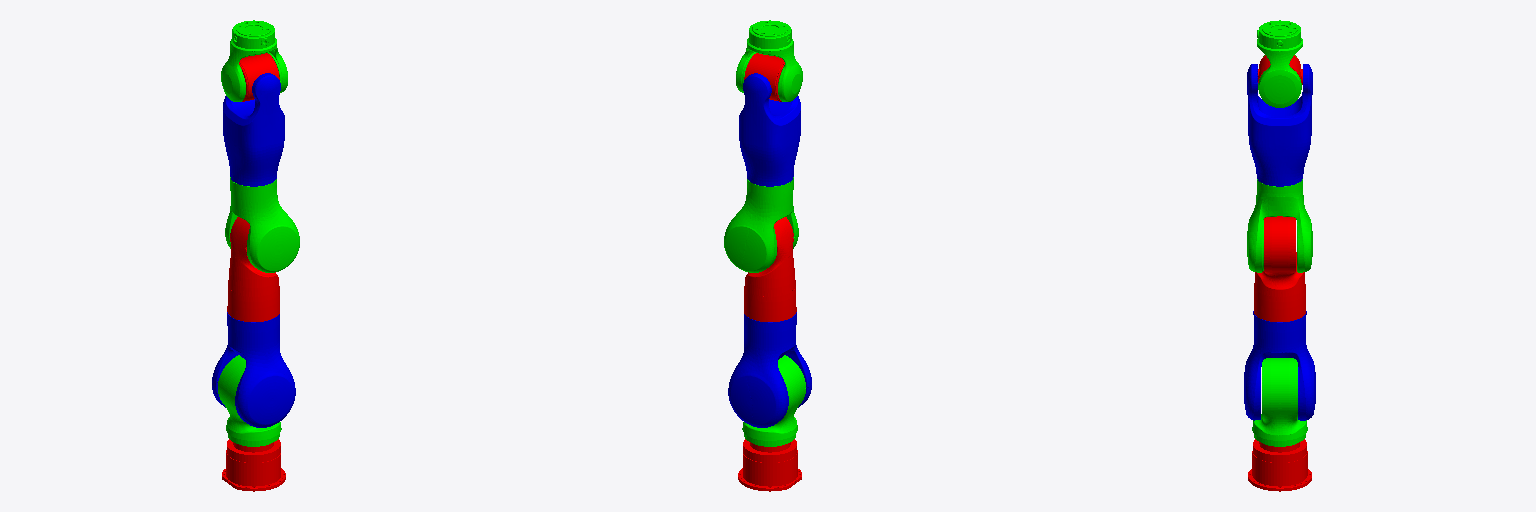
The robot description file, URDF, robot "tj_fx_left_arm":
<?xml version='1.0' encoding='utf-8'?>
<robot name="tj_fx_left_arm">
  <link name="Base_L">
    <inertial>
      <origin xyz="0.00032267 4.798E-05 0.04066353" rpy="0 0 0" />
      <mass value="1.1962" />
      <inertia ixx="0.00107329" ixy="-1.68E-06" ixz="-1.05E-05" iyy="0.00107003" iyz="-3.43E-06" izz="0.00127315" />
    </inertial>
    <visual>
      <origin xyz="0 0 0" rpy="0 0 0" />
      <geometry>
        <mesh filename="package://daimon_tj_fx_description/meshes/left/Base_L.STL" />
      </geometry>
      <material name="">
        <color rgba="1 0 0 1" />
      </material>
    </visual>
    <collision>
      <origin xyz="0 0 0" rpy="0 0 0" />
      <geometry>
        <mesh filename="package://daimon_tj_fx_description/meshes/left/Base_L.STL" />
      </geometry>
    </collision>
  </link>
  <link name="Link1_L">
    <inertial>
      <origin xyz="0.00002347 0.00557150 -0.03075998" rpy="0 0 0" />
      <mass value="1.9705" />
      <inertia ixx="0.00492293" ixy="0.00000550" ixz="0.00000193" iyy="0.00526513" iyz="0.00033232" izz="0.00188107" />
    </inertial>
    <visual>
      <origin xyz="0 0 0" rpy="0 0 0" />
      <geometry>
        <mesh filename="package://daimon_tj_fx_description/meshes/left/Link1_L.STL" />
      </geometry>
      <material name="">
        <color rgba="0 1 0 1" />
      </material>
    </visual>
    <collision>
      <origin xyz="0 0 0" rpy="0 0 0" />
      <geometry>
        <mesh filename="package://daimon_tj_fx_description/meshes/left/Link1_L.STL" />
      </geometry>
    </collision>
  </link>
  <joint name="Joint1_L" type="revolute">
    <origin xyz="0 0 0.1745" rpy="0 0 0" />
    <parent link="Base_L" />
    <child link="Link1_L" />
    <axis xyz="0 0 1" />
    <limit lower="-3.1067" upper="3.1067" effort="108" velocity="3.1416" />
  </joint>
  <link name="Link2_L">
    <inertial>
      <origin xyz="0.00013483 0.06170460 0.00950639" rpy="0 0 0" />
      <mass value="2.24398" />
      <inertia ixx="0.01194933" ixy="0.00000336" ixz="0.00000091" iyy="0.00361581" iyz="-0.00132804" izz="0.01098356" />
    </inertial>
    <visual>
      <origin xyz="0 0 0" rpy="0 0 0" />
      <geometry>
        <mesh filename="package://daimon_tj_fx_description/meshes/left/Link2_L.STL" />
      </geometry>
      <material name="">
        <color rgba="0 0 1 1" />
      </material>
    </visual>
    <collision>
      <origin xyz="0 0 0" rpy="0 0 0" />
      <geometry>
        <mesh filename="package://daimon_tj_fx_description/meshes/left/Link2_L.STL" />
      </geometry>
    </collision>
  </link>
  <joint name="Joint2_L" type="revolute">
    <origin xyz="0 0 0" rpy="1.5708 0 0" />
    <parent link="Link1_L" />
    <child link="Link2_L" />
    <axis xyz="0 0 1" />
    <limit lower="-2.0944" upper="2.0944" effort="108" velocity="3.1416" />
  </joint>
  <link name="Link3_L">
    <inertial>
      <origin xyz="0.00968562 0.00246599 -0.04627302" rpy="0 0 0" />
      <mass value="1.9242" />
      <inertia ixx="0.00718224" ixy="0.00004413" ixz="0.00089552" iyy="0.00762563" iyz="0.00022096" izz="0.00178597" />
    </inertial>
    <visual>
      <origin xyz="0 0 0" rpy="0 0 0" />
      <geometry>
        <mesh filename="package://daimon_tj_fx_description/meshes/left/Link3_L.STL" />
      </geometry>
      <material name="">
        <color rgba="1 0 0 1" />
      </material>
    </visual>
    <collision>
      <origin xyz="0 0 0" rpy="0 0 0" />
      <geometry>
        <mesh filename="package://daimon_tj_fx_description/meshes/left/Link3_L.STL" />
      </geometry>
    </collision>
  </link>
  <joint name="Joint3_L" type="revolute">
    <origin xyz="0 0.287 0" rpy="-1.5708 0 0" />
    <parent link="Link2_L" />
    <child link="Link3_L" />
    <axis xyz="0 0 1" />
    <limit lower="-3.1067" upper="3.1067" effort="66" velocity="3.1416" />
  </joint>
  <link name="Link4_L">
    <inertial>
      <origin xyz="0.00850411 -0.04718223 0.00941509" rpy="0 0 0" />
      <mass value="1.6085" />
      <inertia ixx="0.00580480" ixy="-0.00066669" ixz="-0.00012722" iyy="0.00223807" iyz="0.00070523" izz="0.00533060" />
    </inertial>
    <visual>
      <origin xyz="0 0 0" rpy="0 0 0" />
      <geometry>
        <mesh filename="package://daimon_tj_fx_description/meshes/left/Link4_L.STL" />
      </geometry>
      <material name="">
        <color rgba="0 1 0 1" />
      </material>
    </visual>
    <collision>
      <origin xyz="0 0 0" rpy="0 0 0" />
      <geometry>
        <mesh filename="package://daimon_tj_fx_description/meshes/left/Link4_L.STL" />
      </geometry>
    </collision>
  </link>
  <joint name="Joint4_L" type="revolute">
    <origin xyz="0.018 0 0" rpy="-1.5708 0 3.1416" />
    <parent link="Link3_L" />
    <child link="Link4_L" />
    <axis xyz="0 0 1" />
    <limit lower="-2.5307" upper="1.0472" effort="66" velocity="3.1416" />
  </joint>
  <link name="Link5_L">
    <inertial>
      <origin xyz="0.00051127 0.00101064 -0.11271739" rpy="0 0 0" />
      <mass value="2.0883" />
      <inertia ixx="0.00626603" ixy="0.00004009" ixz="0.00005338" iyy="0.00564387" iyz="-0.00006193" izz="0.00243632" />
    </inertial>
    <visual>
      <origin xyz="0 0 0" rpy="0 0 0" />
      <geometry>
        <mesh filename="package://daimon_tj_fx_description/meshes/left/Link5_L.STL" />
      </geometry>
      <material name="">
        <color rgba="0 0 1 1" />
      </material>
    </visual>
    <collision>
      <origin xyz="0 0 0" rpy="0 0 0" />
      <geometry>
        <mesh filename="package://daimon_tj_fx_description/meshes/left/Link5_L.STL" />
      </geometry>
    </collision>
  </link>
  <joint name="Joint5_L" type="revolute">
    <origin xyz="0.018 -0.314 0" rpy="-1.5708 0 3.1416" />
    <parent link="Link4_L" />
    <child link="Link5_L" />
    <axis xyz="0 0 1" />
    <limit lower="-3.1067" upper="3.1067" effort="18" velocity="3.1416" />
  </joint>
  <link name="Link6_L">
    <inertial>
      <origin xyz="0.00032659 0.00531336 -0.00030182" rpy="0 0 0" />
      <mass value="0.72496" />
      <inertia ixx="0.00046040" ixy="0.00000189" ixz="0.00000083" iyy="0.00051716" iyz="-0.00000346" izz="0.00042521" />
    </inertial>
    <visual>
      <origin xyz="0 0 0" rpy="0 0 0" />
      <geometry>
        <mesh filename="package://daimon_tj_fx_description/meshes/left/Link6_L.STL" />
      </geometry>
      <material name="">
        <color rgba="1 0 0 1" />
      </material>
    </visual>
    <collision>
      <origin xyz="0 0 0" rpy="0 0 0" />
      <geometry>
        <mesh filename="package://daimon_tj_fx_description/meshes/left/Link6_L.STL" />
      </geometry>
    </collision>
  </link>
  <joint name="Joint6_L" type="revolute">
    <origin xyz="0 0 0" rpy="1.5708 -1.5708 0" />
    <parent link="Link5_L" />
    <child link="Link6_L" />
    <axis xyz="0 0 1" />
    <limit lower="-1.0472" upper="1.0472" effort="18" velocity="3.1416" />
  </joint>
  <link name="Link7_L">
    <inertial>
      <origin xyz="-0.00009108 -0.03153255 0.00889371" rpy="0 0 0" />
      <mass value="0.68606" />
      <inertia ixx="0.00173687" ixy="-0.00000345" ixz="-0.00000116" iyy="0.00089035" iyz="0.00030680" izz="0.00139406" />
    </inertial>
    <visual>
      <origin xyz="0 0 0" rpy="0 0 0" />
      <geometry>
        <mesh filename="package://daimon_tj_fx_description/meshes/left/Link7_L.STL" />
      </geometry>
      <material name="">
        <color rgba="0 1 0 1" />
      </material>
    </visual>
    <collision>
      <origin xyz="0 0 0" rpy="0 0 0" />
      <geometry>
        <mesh filename="package://daimon_tj_fx_description/meshes/left/Link7_L.STL" />
      </geometry>
    </collision>
  </link>
  <joint name="Joint7_L" type="revolute">
    <origin xyz="0 0 0" rpy="1.5708 -1.5708 0" />
    <parent link="Link6_L" />
    <child link="Link7_L" />
    <axis xyz="0 0 1" />
    <limit lower="-1.5708" upper="1.5708" effort="18" velocity="3.1416" />
  </joint>
  <link name="ee_link_L" />
  <joint name="ee_fixed_joint_L" type="fixed">
    <origin xyz="0 -0.095 0" rpy="0 0 0" />
    <parent link="Link7_L" />
    <child link="ee_link_L" />
  </joint>
</robot>

--- What the picture shows (computed from the rendered views, not written in the file) ---
The picture shows the robot from 3 angles, left to right: view 1: azimuth 30°, elevation 25°; view 2: azimuth 150°, elevation 25°; view 3: azimuth 270°, elevation 25°; orthographic projection.
Model tj_fx_left_arm with 9 links and 8 joints (7 revolute, 1 fixed), rooted at Base_L, posed every joint at zero.
Links seen in each view (by area): view 1: Link2_L, Link5_L, Link4_L, Link3_L, Link7_L, Base_L, Link1_L, Link6_L; view 2: Link2_L, Link5_L, Link4_L, Link3_L, Link7_L, Base_L, Link1_L, Link6_L; view 3: Link5_L, Link3_L, Link2_L, Link1_L, Link4_L, Link7_L, Base_L.
Boxes of the visible links, x1,y1,x2,y2 form: Link2_L: (212,312,295,427); Link5_L: (223,73,284,186); Link4_L: (225,177,299,272); Link3_L: (227,217,279,321); Link7_L: (221,20,287,101); Base_L: (222,439,285,491); Link1_L: (218,355,281,446); Link6_L: (239,53,279,101); Link2_L: (728,312,811,427); Link5_L: (739,73,800,186); Link4_L: (724,177,798,272); Link3_L: (744,217,796,321); Link7_L: (736,20,802,101); Base_L: (738,439,801,491); Link1_L: (742,355,805,446); Link6_L: (744,53,784,101); Link5_L: (1247,64,1312,186); Link3_L: (1254,216,1305,321); Link2_L: (1244,311,1315,420); Link1_L: (1252,358,1307,446); Link4_L: (1247,179,1312,272); Link7_L: (1257,20,1302,107); Base_L: (1248,439,1311,491).
Bounding box of the posed robot: 0.1262 × 0.1271 × 0.8765 m (x, y, z).
Meshes: 8 distinct files referenced, 8 mesh visuals loaded (8 binary STL).
